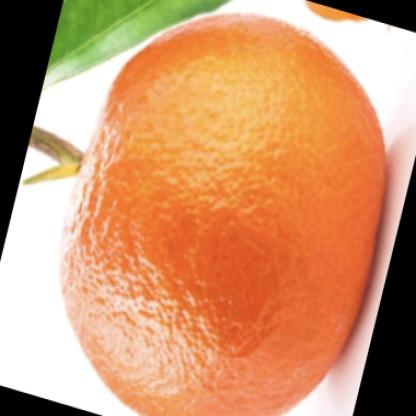fresh: (61, 14, 389, 416)
